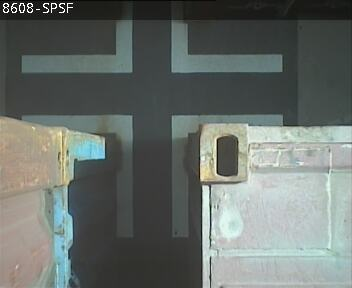groundmarker_1: (21, 114, 282, 236), (22, 1, 282, 72)
